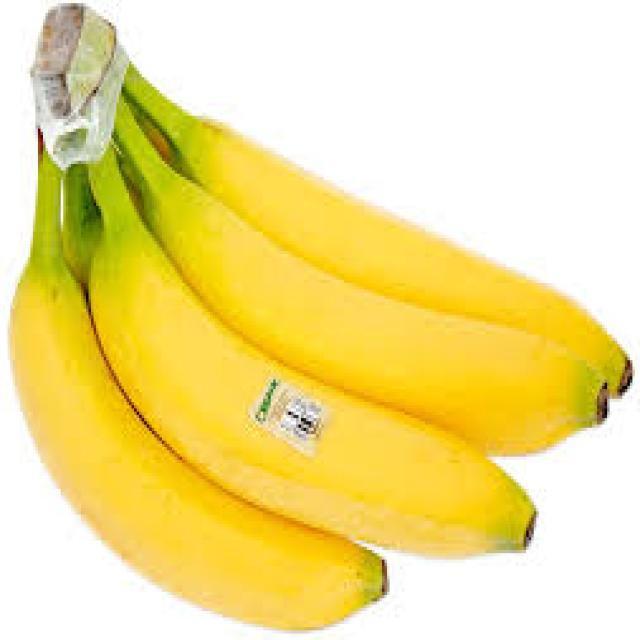Banana: (91, 236, 431, 528), (15, 282, 207, 573), (233, 253, 505, 454), (246, 184, 525, 351)
